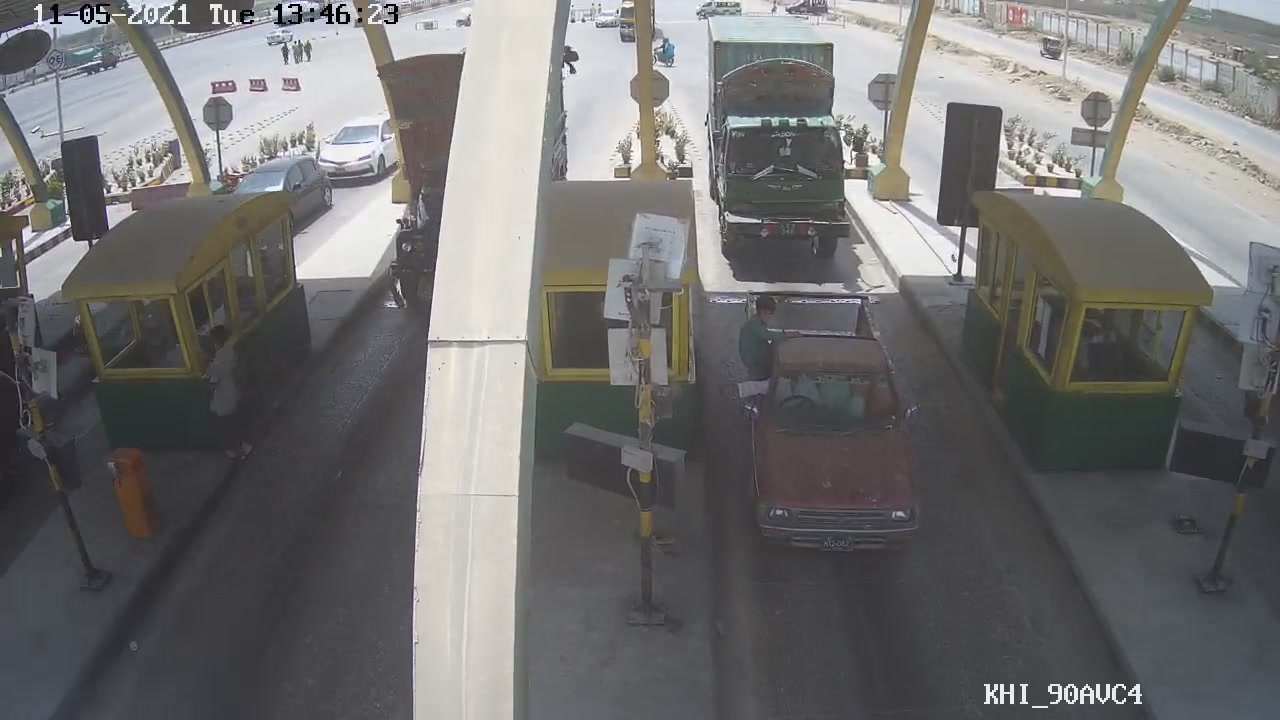F6: (697, 15, 864, 264)
